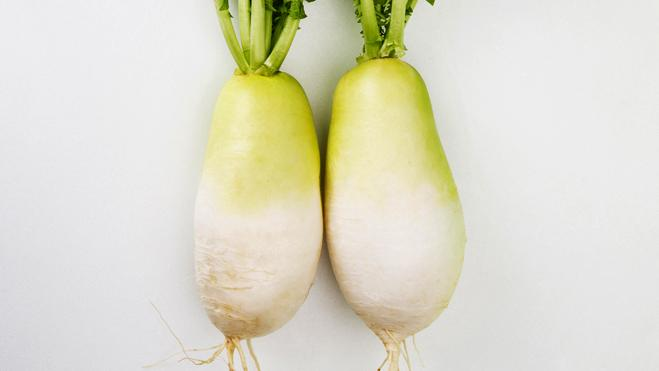radish: (349, 36, 451, 199), (217, 50, 320, 191)
